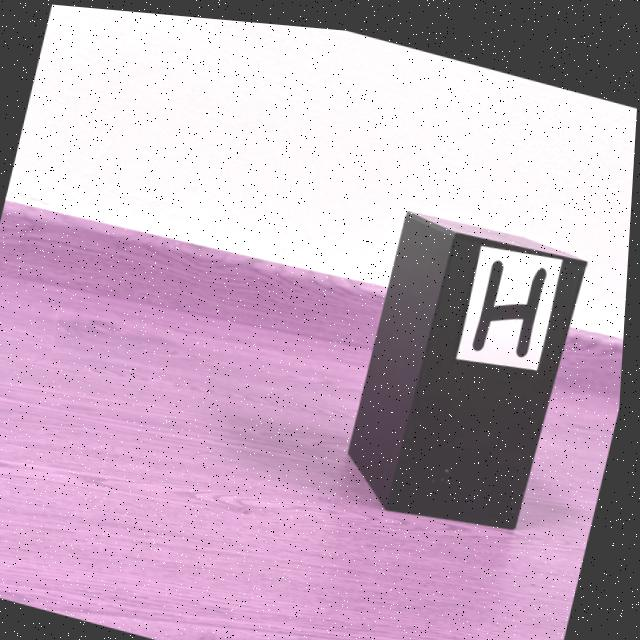H: (475, 250, 549, 347)
